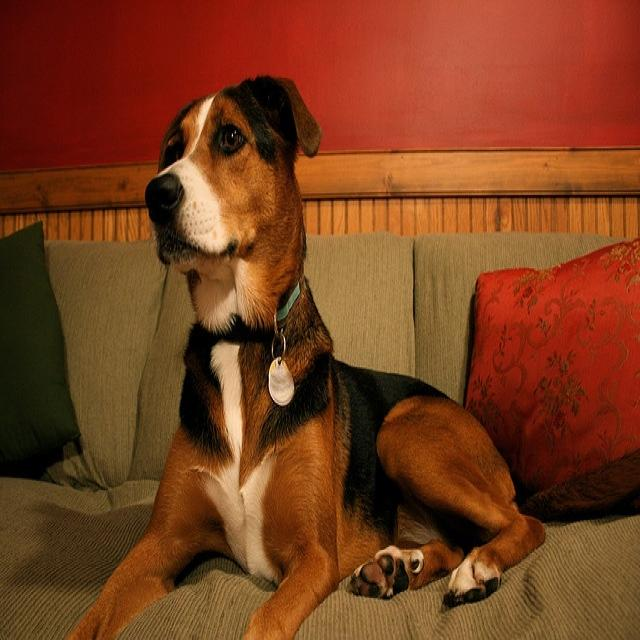dog: (64, 74, 546, 638)
